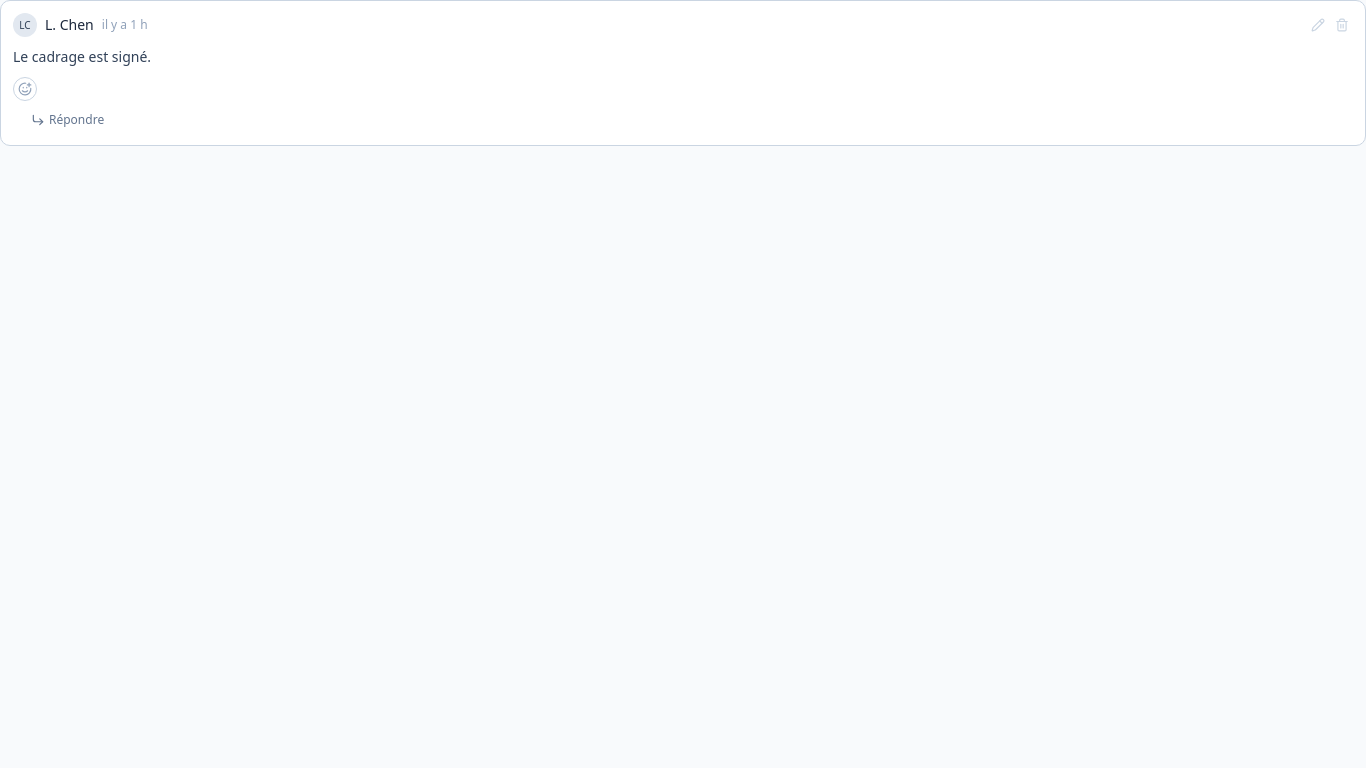
Scenario: ProjectUpdateCard › withdraws the update once confirmed
Click the button named "Supprimer la mise à jour" at (1342, 25), box top-left (1331, 14), bottom-right (1353, 36)
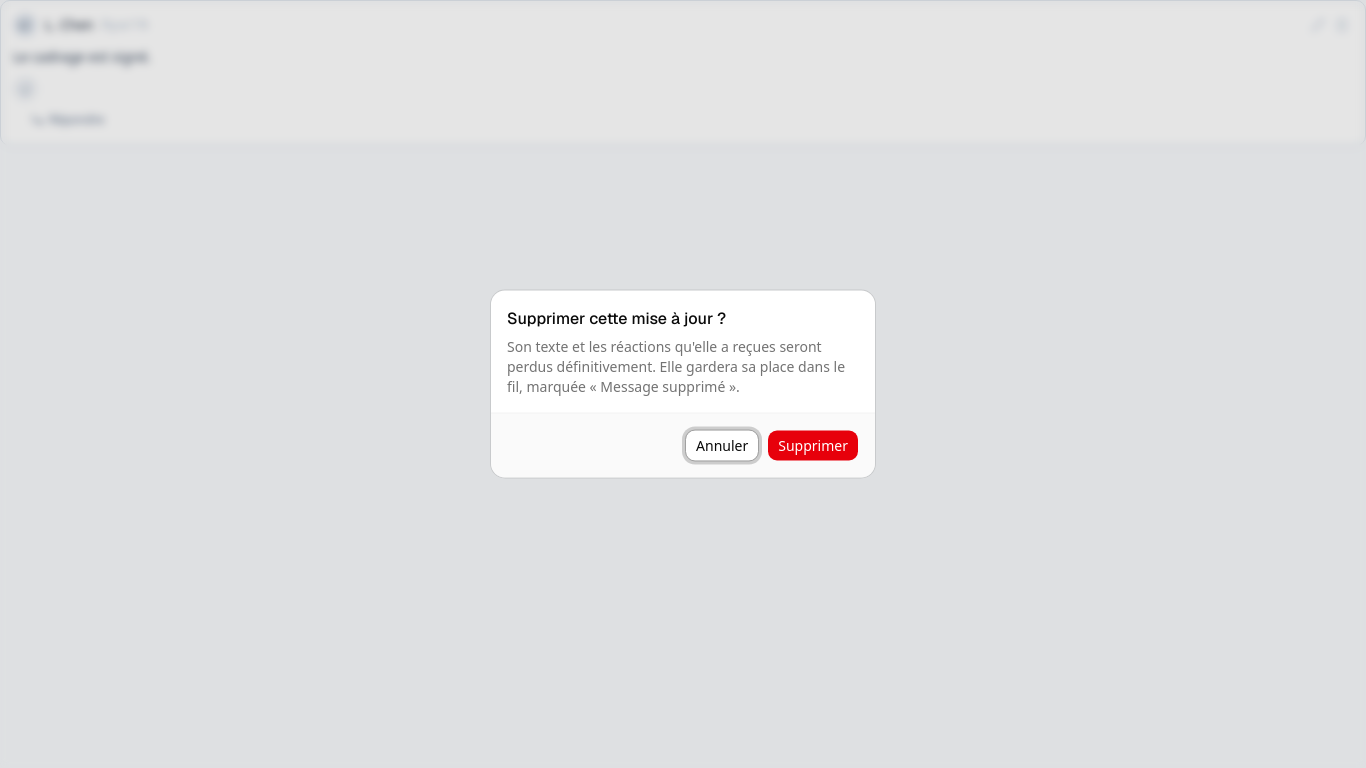
Click the button "Supprimer" at (813, 446), box top-left (767, 430), bottom-right (859, 462)
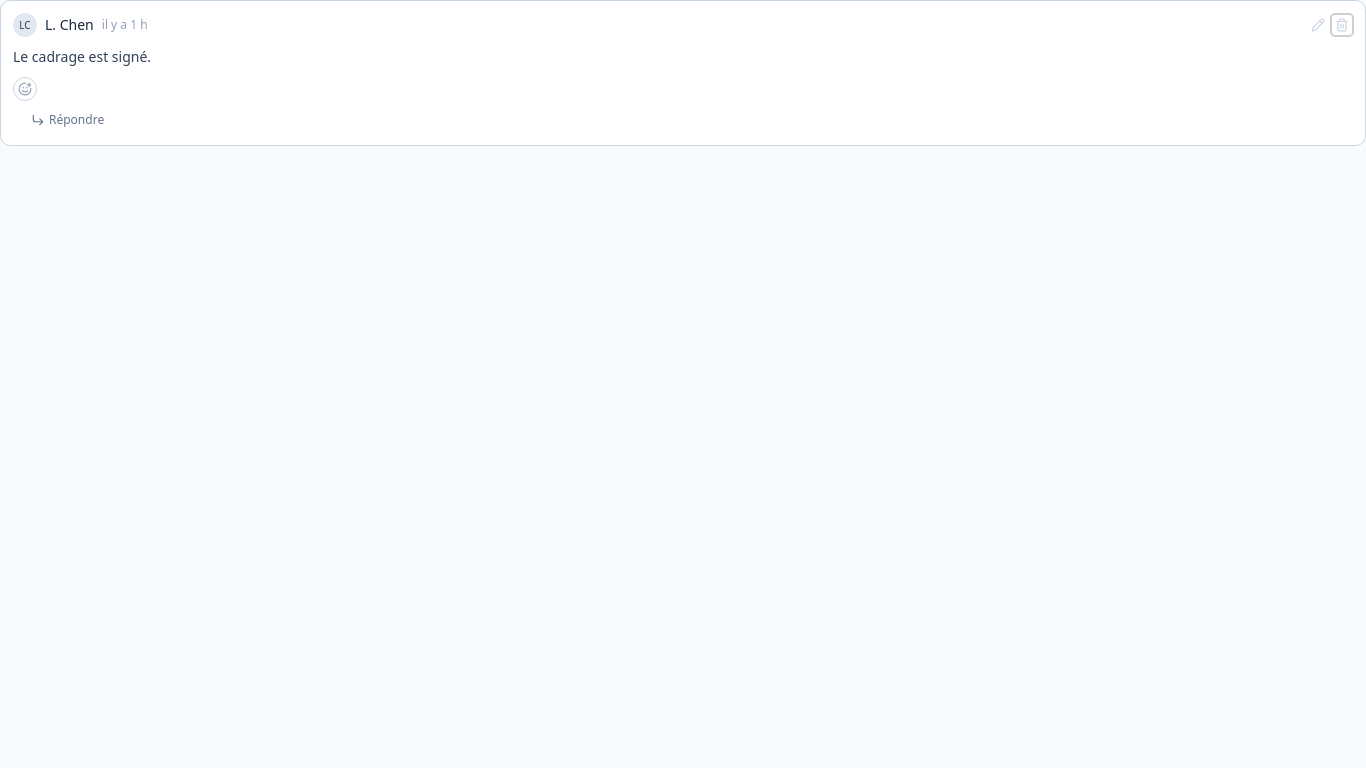
Expected: the dialog is gone
